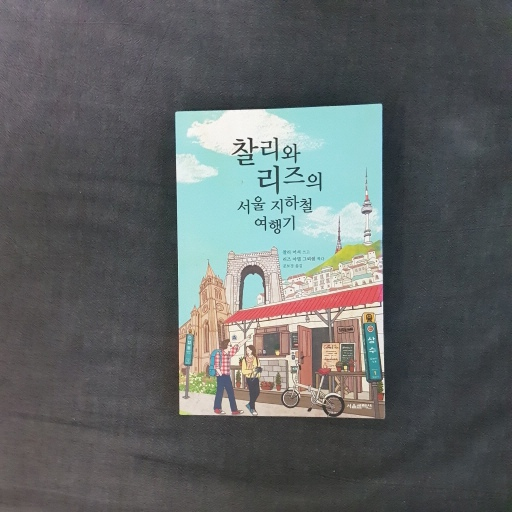Paper_0: (166, 100, 393, 428)
